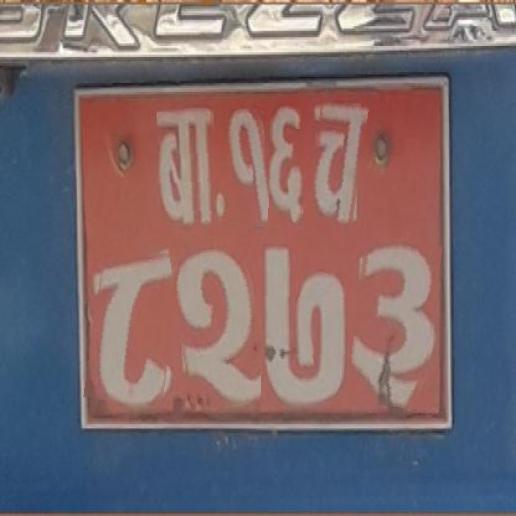1: (228, 107, 272, 227)
2: (175, 247, 264, 409)
3: (350, 239, 438, 409)
6: (269, 107, 305, 223)
7: (261, 244, 349, 407)
8: (88, 248, 177, 407)
ba: (157, 109, 215, 227)
cha: (309, 102, 365, 225)
